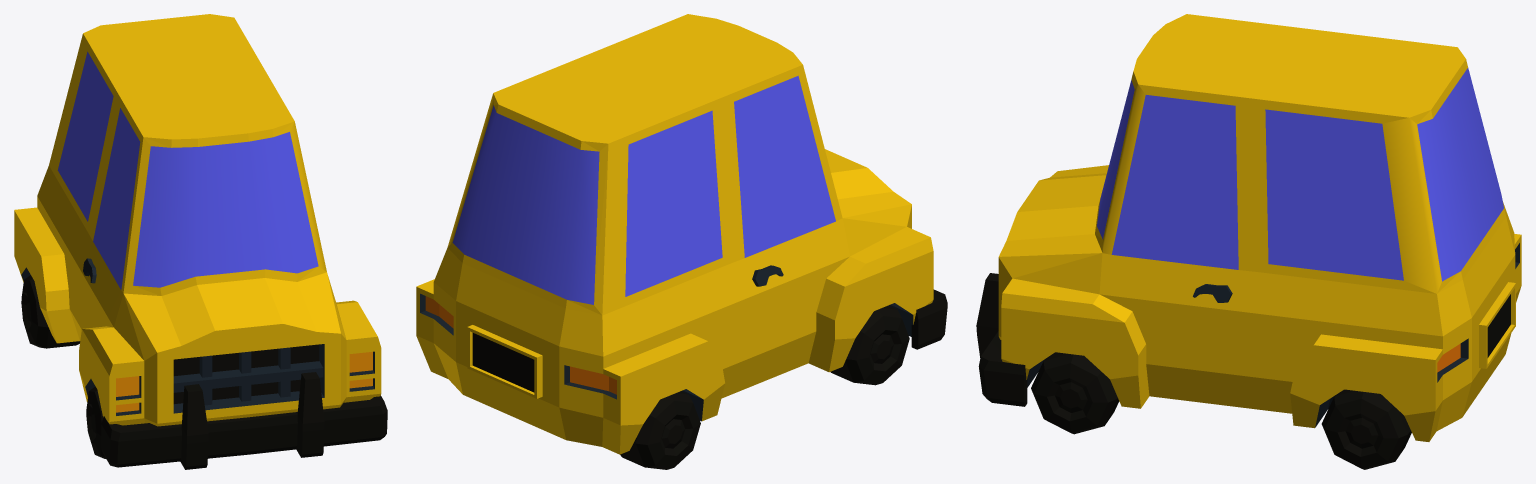
The model's file is ToyObject_097.fbx.
3 renders of one model, left to right at view 1: azimuth 30°, elevation 25°; view 2: azimuth 150°, elevation 25°; view 3: azimuth 270°, elevation 25°, orthographic. The views are drawn at different scales.
Visible parts, largest first — view 1: 1.015; view 2: 1.015; view 3: 1.015.
Boxes of the visible parts, x1,y1,x2,y2 form: 1.015: [14, 14, 387, 469]; 1.015: [416, 14, 947, 469]; 1.015: [976, 14, 1521, 469].
Bounding box in the file's own units: 0.1702 × 0.1445 × 0.2148.
2 materials, 1 textured.
